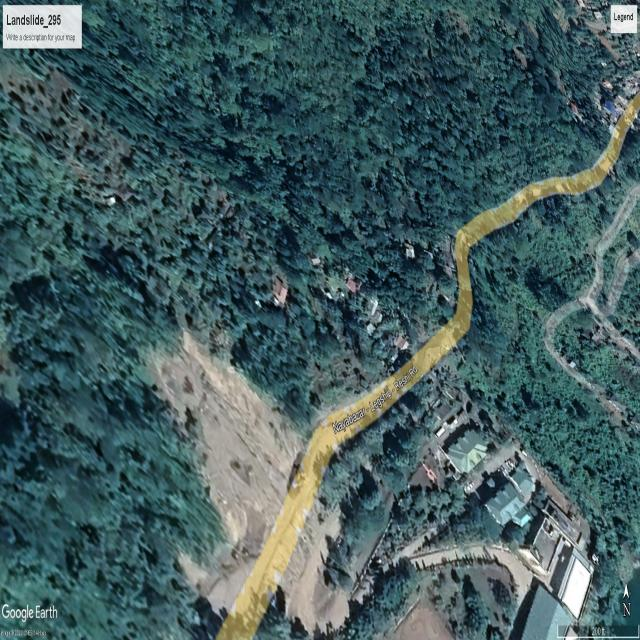Landslide: (155, 340, 285, 500)
